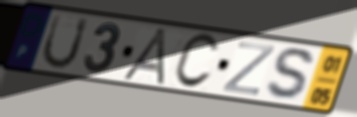3: (82, 21, 123, 76)
A: (118, 27, 169, 88)
C: (170, 32, 221, 91)
S: (263, 46, 318, 104)
U: (39, 12, 92, 71)
Z: (219, 40, 279, 98)
